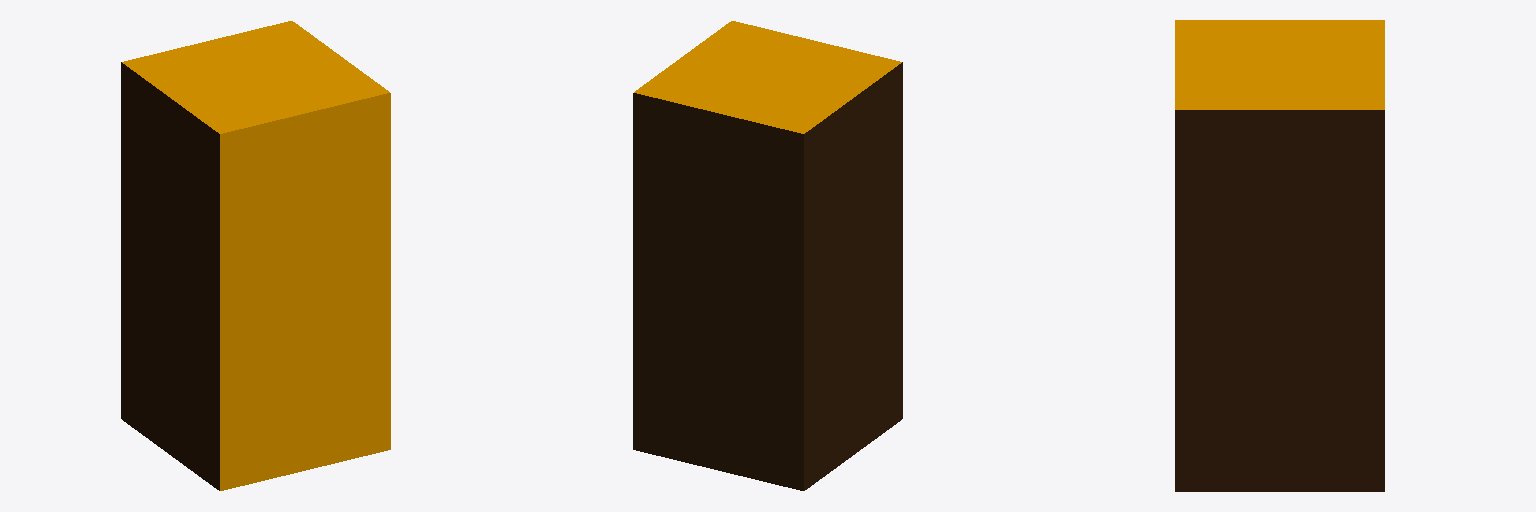
URDF robot description (bishopB2):
<?xml version='1.0' encoding='UTF-8'?>

<robot name="bishopB2">

    <link name="base">
        <visual>
            <origin xyz="0 0 0" rpy="0 0 0" />
            <geometry>
                <mesh filename="meshes/bishopB2.dae" scale="1.0 1.0 1.0"/>
            </geometry>
        </visual>
        <collision>
            <origin xyz="0 0 0" rpy="0 0 0" />
            <geometry>
                <box size="0.03 0.03 0.06" />
            </geometry>
        </collision>
    </link>

</robot>

--- What the picture shows (computed from the rendered views, not written in the file) ---
3 views of the same robot in one strip: view 1: azimuth 30°, elevation 25°; view 2: azimuth 150°, elevation 25°; view 3: azimuth 270°, elevation 25° (orthographic).
Model bishopB2 with 1 links and 0 joints (none), rooted at base, posed all joints at 0.
Links seen in each view (by area): view 1: base; view 2: base; view 3: base.
Boxes of the visible links, <box> form: base: <box>121,21,390,490</box>; base: <box>633,21,902,490</box>; base: <box>1175,20,1384,491</box>.
Size in the robot's own frame: 0.03 by 0.03 by 0.06 metres.
Meshes: 1 distinct files referenced, 1 mesh visuals loaded (1 Collada DAE).
